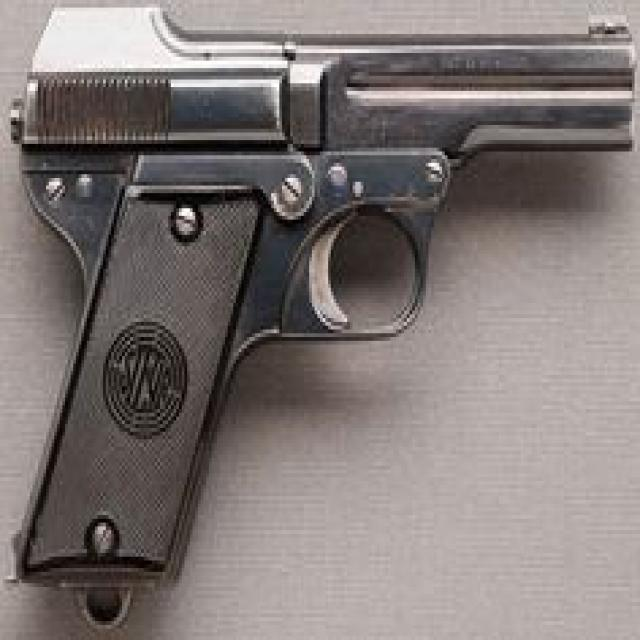semi automatic: (2, 0, 640, 639)
